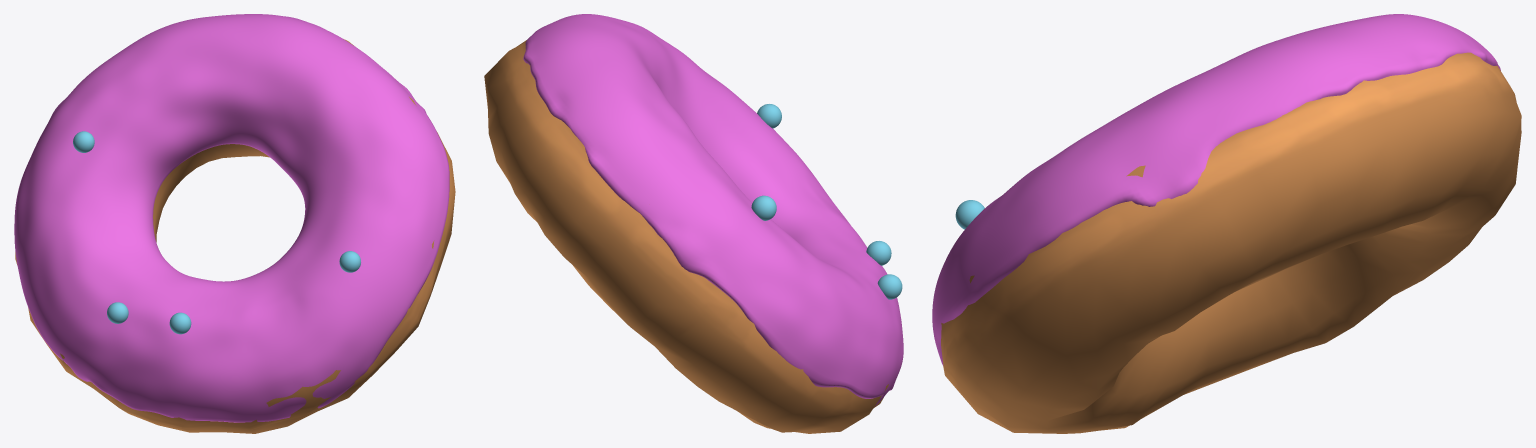
Rendered from donut2.gltf.
The picture shows the model from 3 angles, left to right: view 1: azimuth 30°, elevation 25°; view 2: azimuth 150°, elevation 25°; view 3: azimuth 270°, elevation 25°; orthographic projection. The views are drawn at different scales.
Visible parts, largest first — view 1: Icing, Dough; view 2: Icing, Dough, Sphere.003, Sphere.002, Sphere.001, Sphere; view 3: Dough, Icing.
Boxes of the visible parts, box(x1,y1,x2,y2) form: Icing: box(14, 14, 449, 422); Dough: box(15, 39, 455, 433); Icing: box(523, 14, 903, 405); Dough: box(484, 40, 888, 433); Sphere.003: box(751, 195, 776, 220); Sphere.002: box(877, 274, 902, 299); Sphere.001: box(866, 241, 891, 265); Sphere: box(757, 104, 781, 128); Dough: box(941, 52, 1521, 433); Icing: box(932, 14, 1500, 365).
Size of the model in its own units: 0.085 by 0.0754 by 0.0878.
3 materials, 1 textured.
